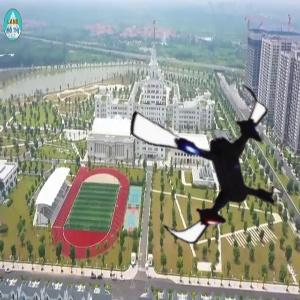drone: (120, 75, 296, 251)
